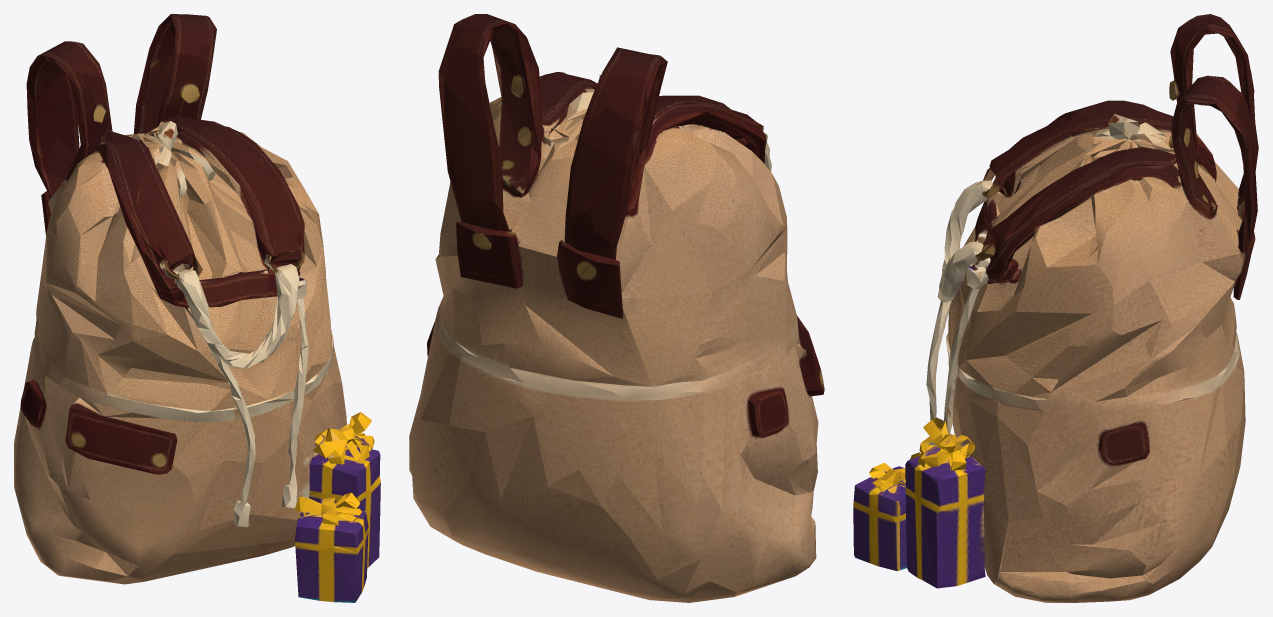
3 views of the same model, side by side, from view 1: azimuth 30°, elevation 25°; view 2: azimuth 150°, elevation 25°; view 3: azimuth 270°, elevation 25° (orthographic). The views are drawn at different scales.
Parts seen in each view (by area): view 1: output_unwrapped; view 2: output_unwrapped; view 3: output_unwrapped.
Part boxes in pixels (bbox=[...]): output_unwrapped: bbox=[14, 14, 380, 602]; output_unwrapped: bbox=[409, 14, 824, 602]; output_unwrapped: bbox=[853, 14, 1258, 602].
Bounding box in the file's own units: 1.29 × 1.9 × 1.45.
Materials: 1 (1 with a texture image).
